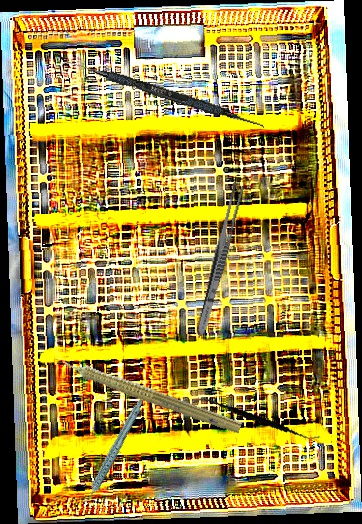Dressing Forceps: (193, 181, 246, 338)
Handpiece: (47, 346, 245, 437), (60, 397, 163, 508)
Spatula Surgical: (54, 54, 267, 130), (191, 373, 322, 466)
